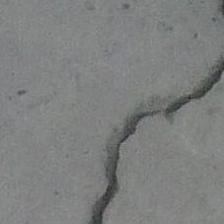Crack: (69, 51, 224, 220)
